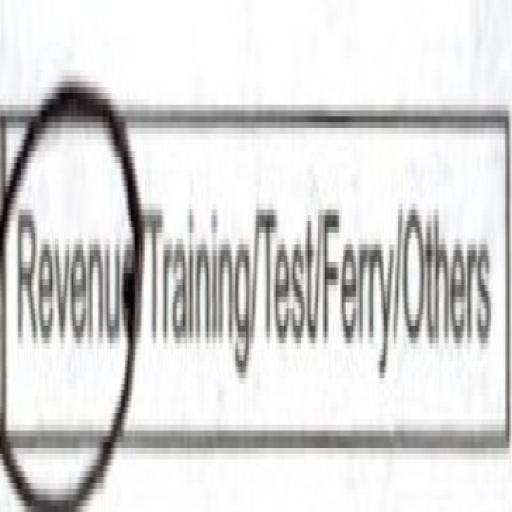check: (0, 29, 141, 512)
